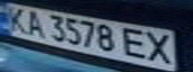3: (42, 12, 66, 43)
5: (63, 16, 81, 47)
7: (78, 19, 96, 49)
8: (97, 21, 118, 53)
A: (21, 8, 48, 38)
E: (118, 26, 151, 61)
K: (0, 3, 33, 33)
X: (142, 29, 178, 65)
